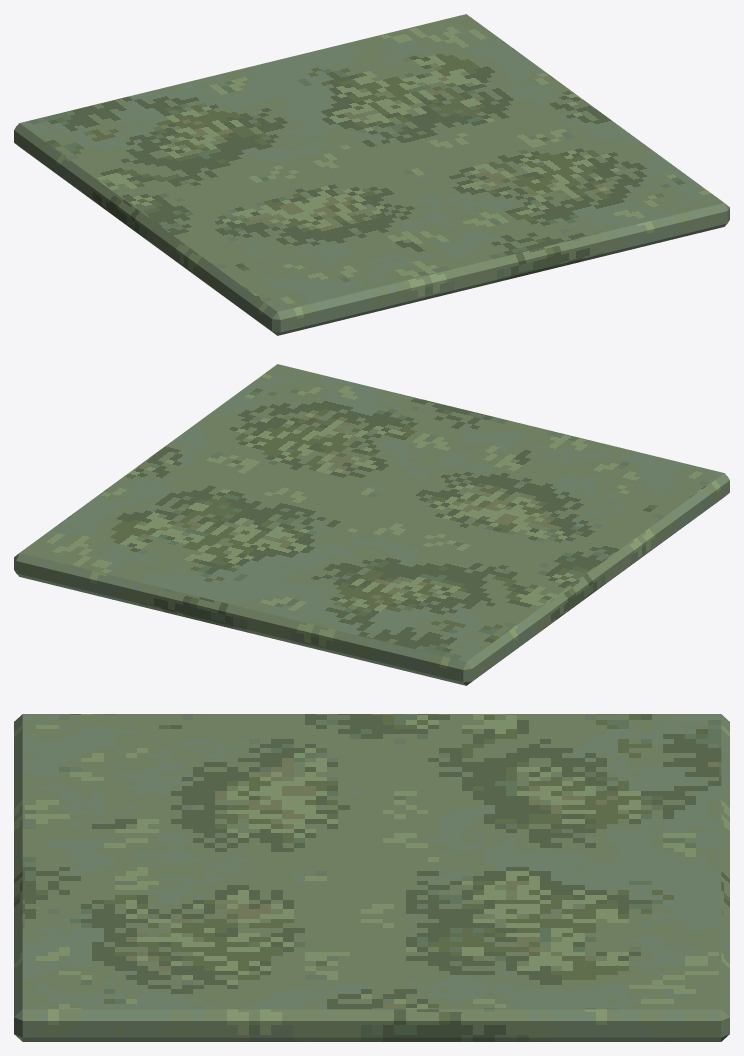
The model's file is topo_b.glb.
3 views of the same model, one above another, from view 1: azimuth 30°, elevation 25°; view 2: azimuth 150°, elevation 25°; view 3: azimuth 270°, elevation 25° (orthographic). The views are drawn at different scales.
Visible parts, largest first — view 1: bosque_topo_b; view 2: bosque_topo_b; view 3: bosque_topo_b.
Boxes of the visible parts, x1,y1,x2,y2 form: bosque_topo_b: (14,14,729,335); bosque_topo_b: (14,364,729,685); bosque_topo_b: (14,714,729,1041).
Bounding box in the file's own units: 1 × 0.05 × 1.
Materials: 1 (1 with a texture image).
